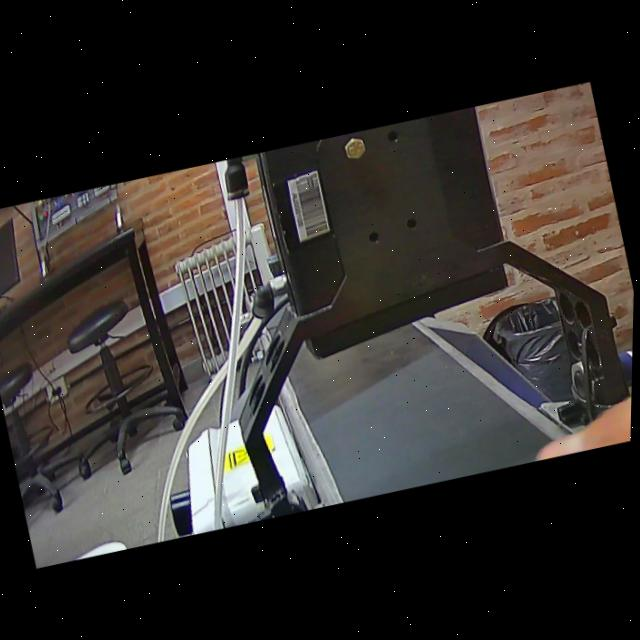greenBox: (404, 401, 633, 489)
